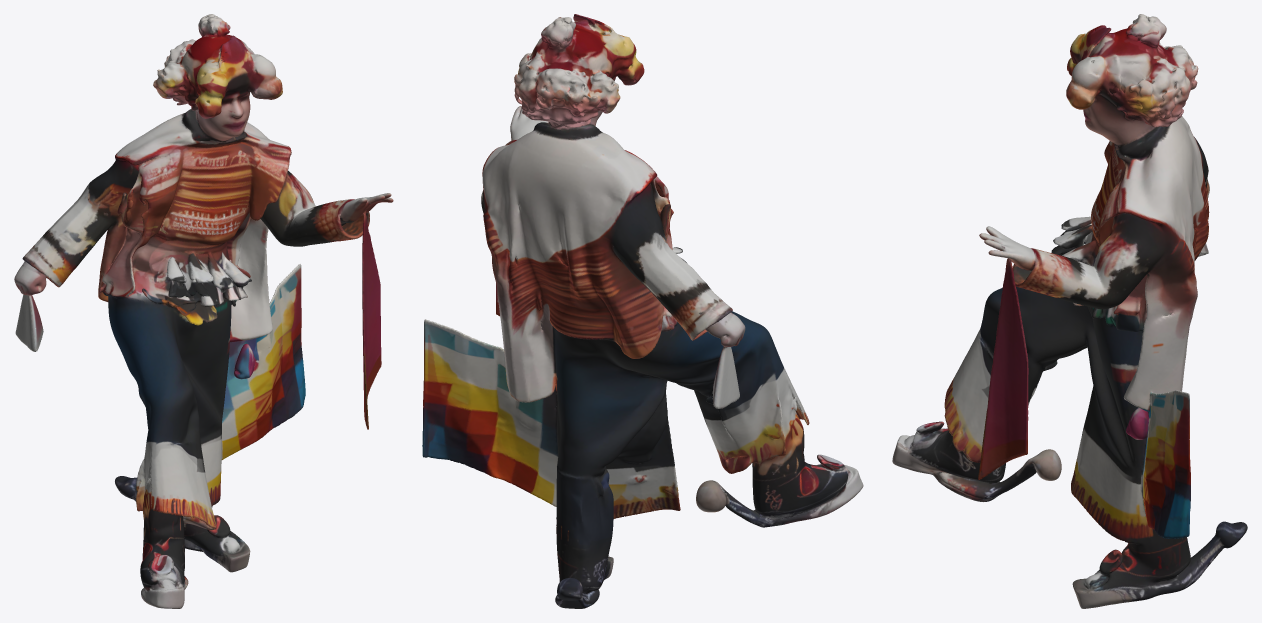
Rendered from pujllayhombre.glb.
3 views of the same model, side by side, from view 1: azimuth 30°, elevation 25°; view 2: azimuth 150°, elevation 25°; view 3: azimuth 270°, elevation 25° (orthographic). The views are drawn at different scales.
Parts seen in each view (by area): view 1: tripo_node_16d37313-62f0-40e3-bb01-4ae80b51abc7; view 2: tripo_node_16d37313-62f0-40e3-bb01-4ae80b51abc7; view 3: tripo_node_16d37313-62f0-40e3-bb01-4ae80b51abc7.
Part boxes in pixels (x1,y1,x2,y2): tripo_node_16d37313-62f0-40e3-bb01-4ae80b51abc7: (14, 14, 393, 608); tripo_node_16d37313-62f0-40e3-bb01-4ae80b51abc7: (422, 14, 863, 608); tripo_node_16d37313-62f0-40e3-bb01-4ae80b51abc7: (892, 14, 1247, 608).
Size of the model in its own units: 0.5787 by 1 by 0.5441.
1 material, 1 textured.
